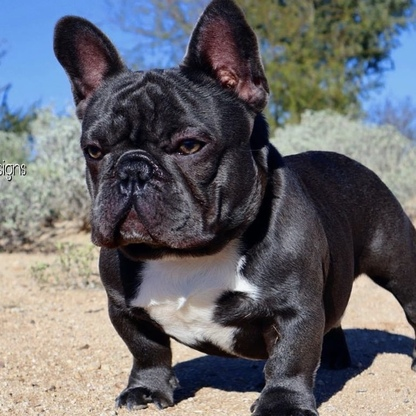bulldog: (55, 16, 415, 414)
